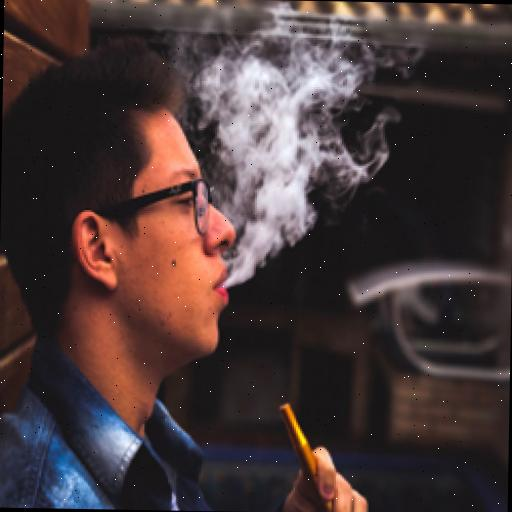asap rokok: (172, 124, 308, 330)
